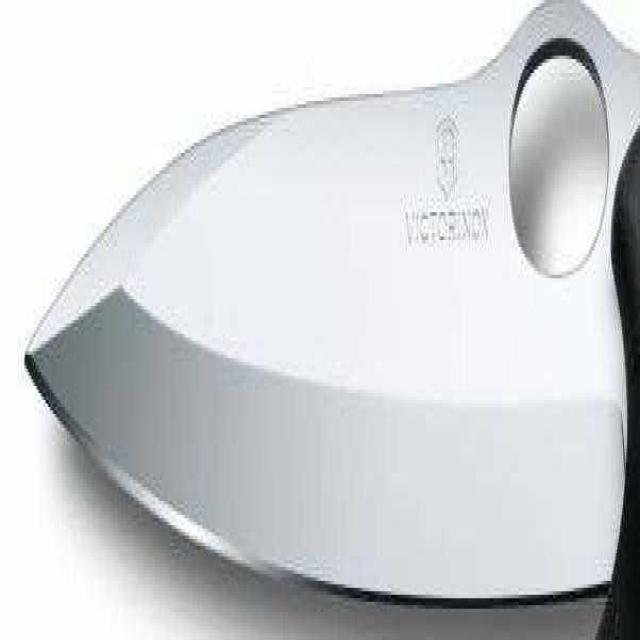Knife: (23, 69, 638, 640)
